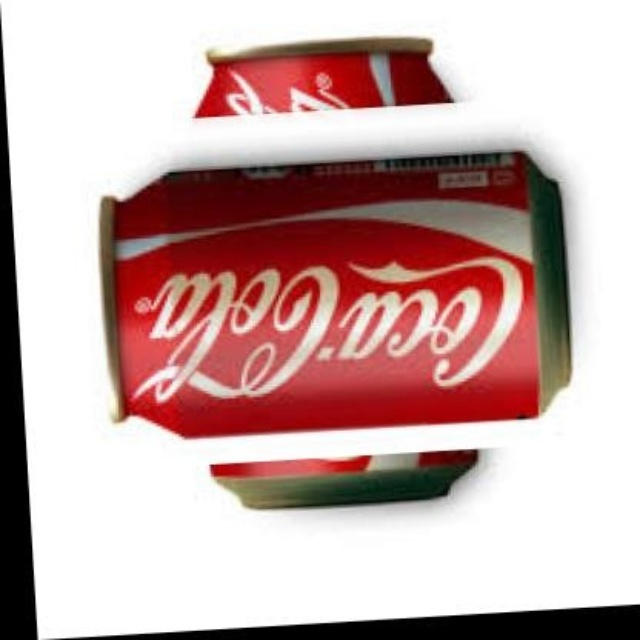trash: (100, 152, 569, 438), (195, 38, 451, 118), (211, 449, 475, 508)
